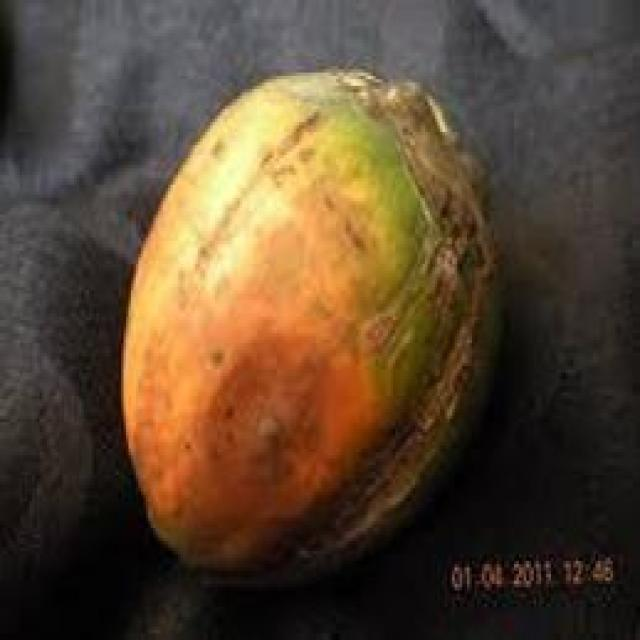good: (119, 69, 504, 597)
